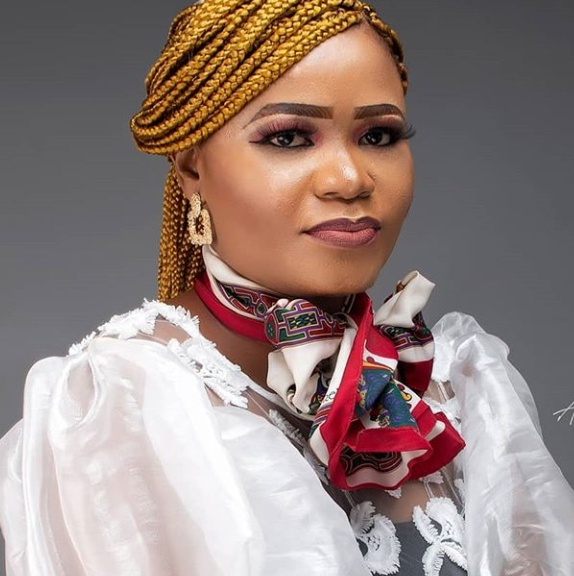mouth: (302, 214, 382, 248)
nose: (309, 174, 375, 201)
